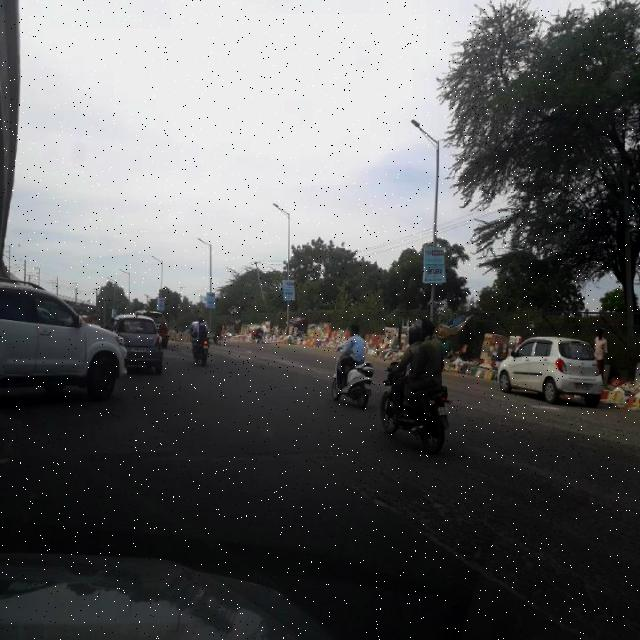D20: (346, 443, 640, 638)
D40: (368, 492, 405, 519)
